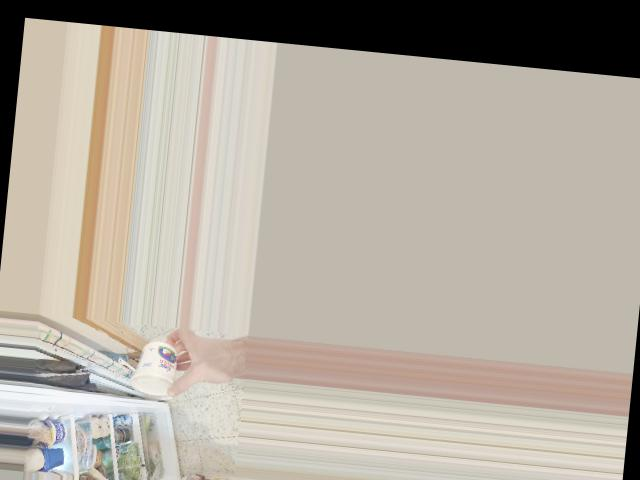cotage: (129, 337, 186, 398)
